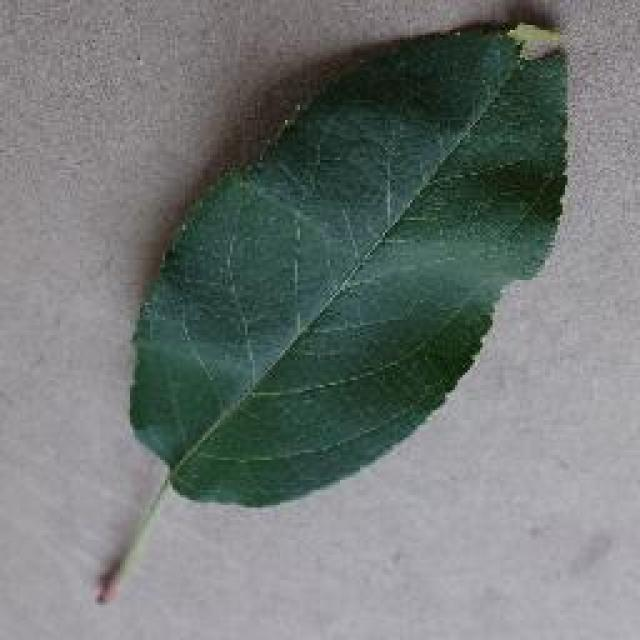apple healthy: (90, 12, 572, 602)
